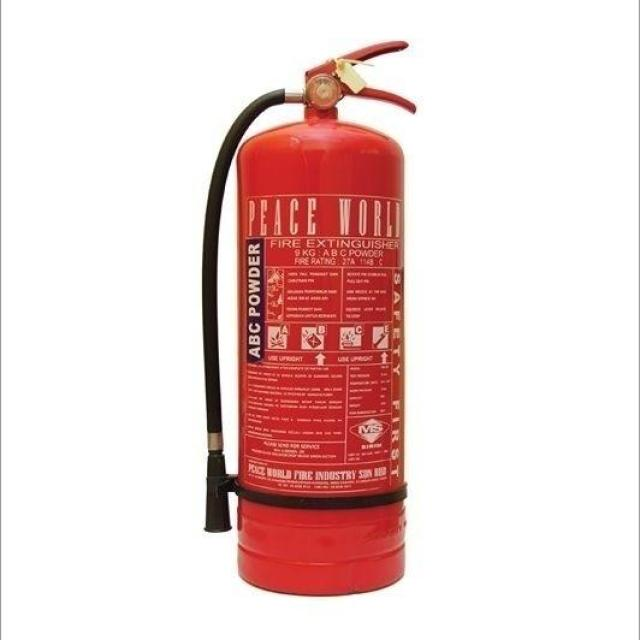fire_extinguisher: (192, 36, 420, 604)
